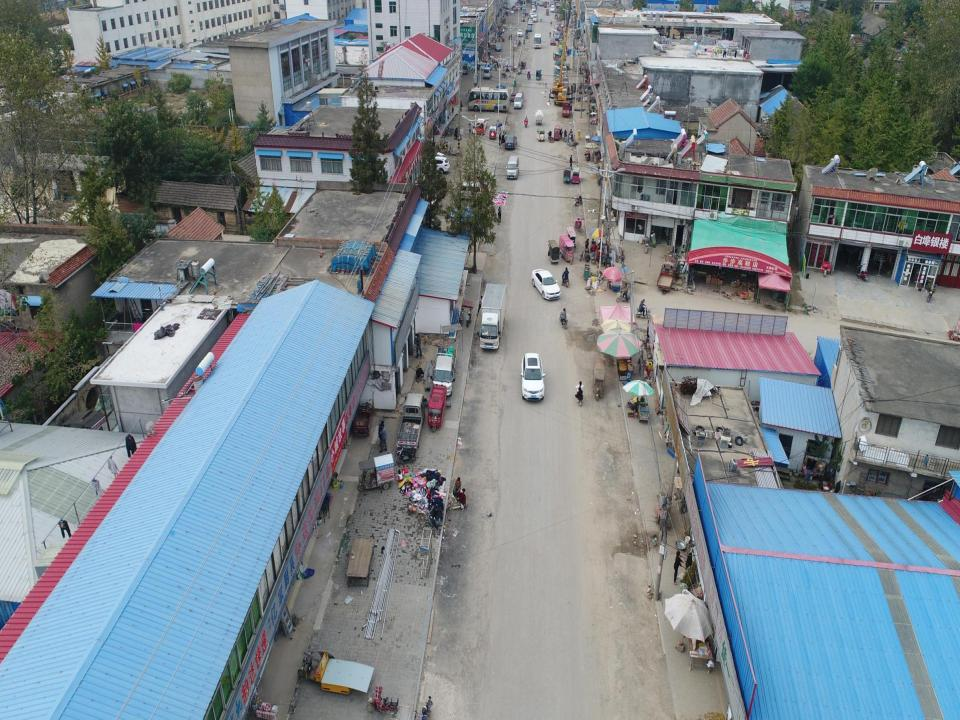bus: (465, 85, 511, 117), (533, 32, 542, 49)
car: (518, 352, 546, 403), (531, 267, 561, 299), (454, 175, 489, 196), (422, 154, 450, 174), (502, 133, 518, 150), (495, 42, 502, 53), (550, 35, 556, 46), (525, 24, 533, 32), (516, 28, 522, 35), (528, 18, 533, 25), (529, 11, 534, 17), (530, 12, 534, 18)
truck: (396, 391, 426, 449), (433, 343, 456, 397), (494, 82, 508, 99)
van: (455, 181, 483, 203), (506, 155, 520, 180), (515, 90, 525, 108), (483, 66, 493, 80), (533, 13, 539, 23), (550, 4, 556, 12), (531, 6, 537, 12)
